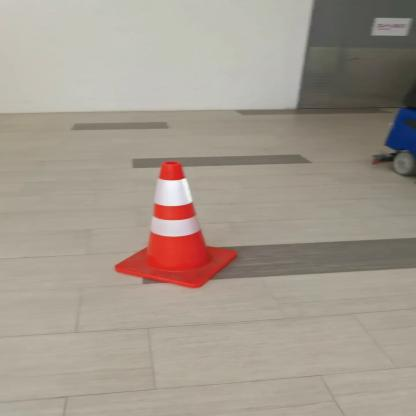cone: (109, 160, 243, 290)
